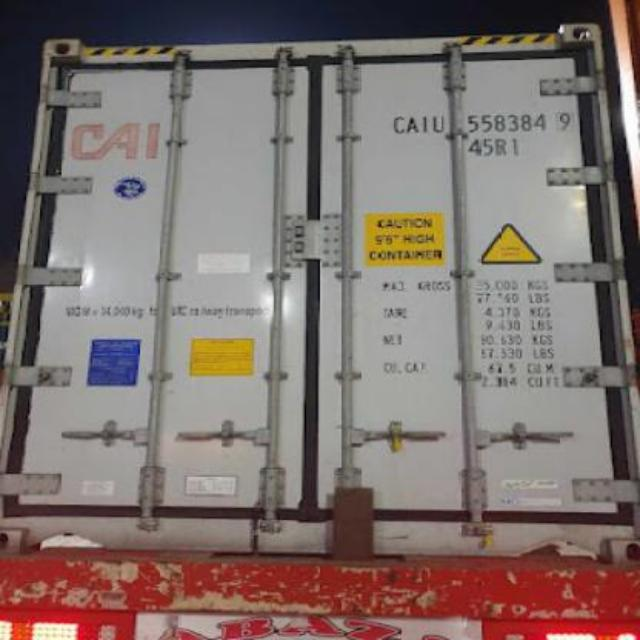3: (506, 112, 520, 134)
4: (534, 112, 552, 134)
5: (464, 111, 480, 132), (478, 114, 494, 134)
8: (492, 112, 506, 136), (518, 114, 532, 134)
9: (556, 112, 574, 136)
A: (402, 114, 418, 136)
C: (388, 114, 404, 136)
I: (420, 112, 430, 136)
U: (432, 113, 446, 137)
